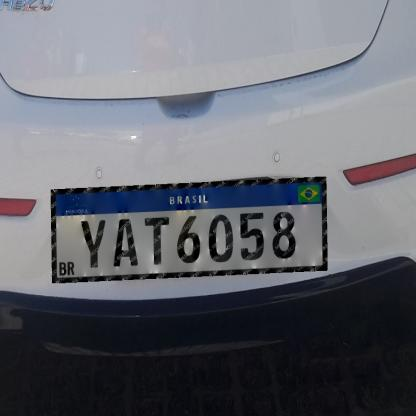PlacaM: (51, 177, 328, 283)
